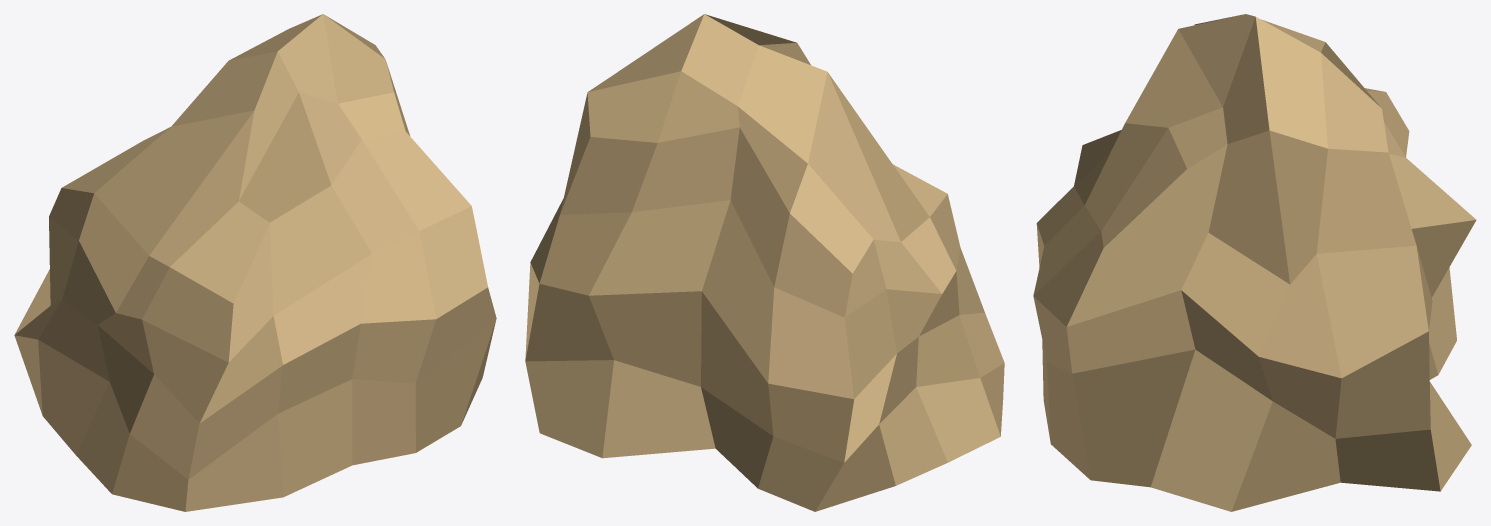
The model's file is Boulder.fbx.
3 views of the same model, side by side, from view 1: azimuth 30°, elevation 25°; view 2: azimuth 150°, elevation 25°; view 3: azimuth 270°, elevation 25° (orthographic). The views are drawn at different scales.
Visible parts, largest first — view 1: Cube; view 2: Cube; view 3: Cube.
Part boxes in pixels (box(x1,y1,x2,y2)): Cube: box(14, 14, 496, 511); Cube: box(525, 14, 1004, 511); Cube: box(1033, 14, 1476, 511).
Size of the model in its own units: 288 by 276 by 250.
